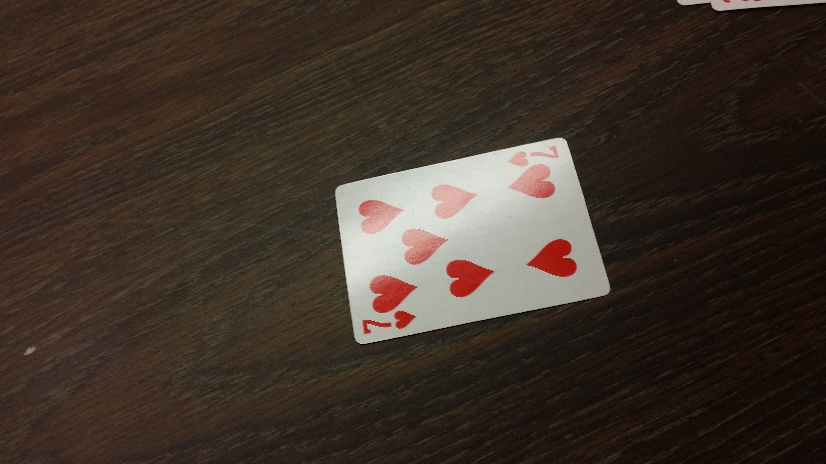H7: (358, 310, 418, 335), (511, 144, 562, 169)
